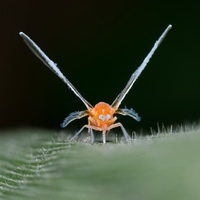insect: (19, 24, 171, 142)
